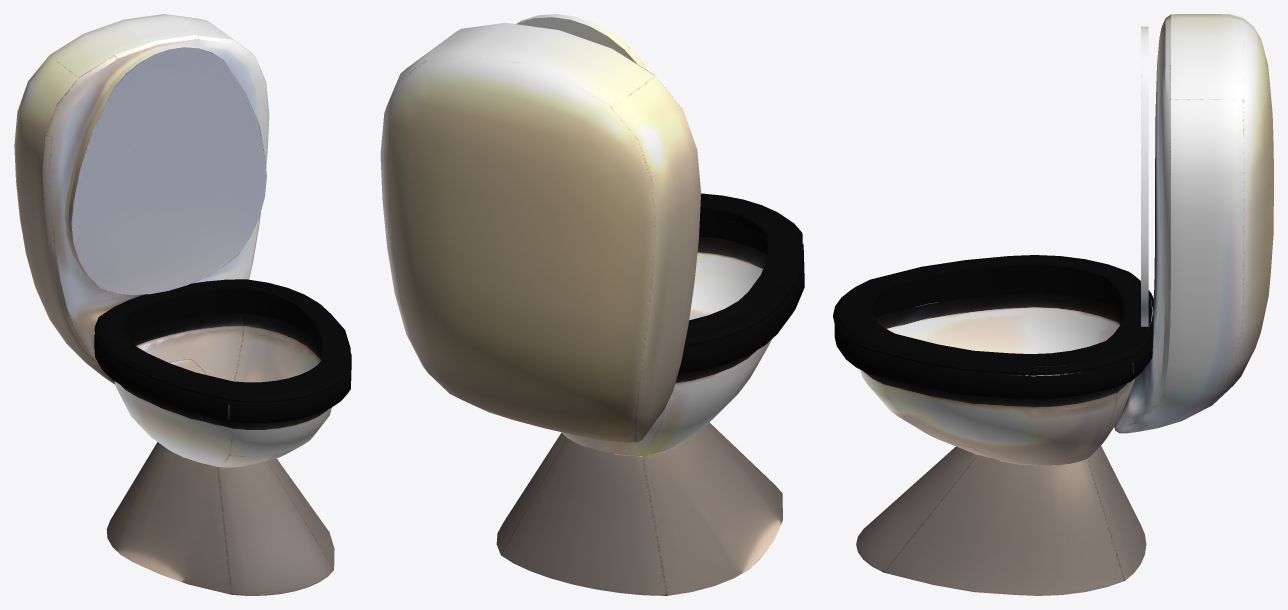
Rendered from Toilet2.fbx.
The picture shows the model from 3 angles, left to right: view 1: azimuth 30°, elevation 25°; view 2: azimuth 150°, elevation 25°; view 3: azimuth 270°, elevation 25°; orthographic projection. The views are drawn at different scales.
Visible parts, largest first — view 1: Toilet; view 2: Toilet; view 3: Toilet.
Part boxes in pixels (x1,y1,x2,y2): Toilet: [14, 14, 351, 595]; Toilet: [380, 14, 804, 595]; Toilet: [833, 14, 1273, 595].
Size of the model in its own units: 386 by 728 by 572.
Materials: 1 (1 with a texture image).
